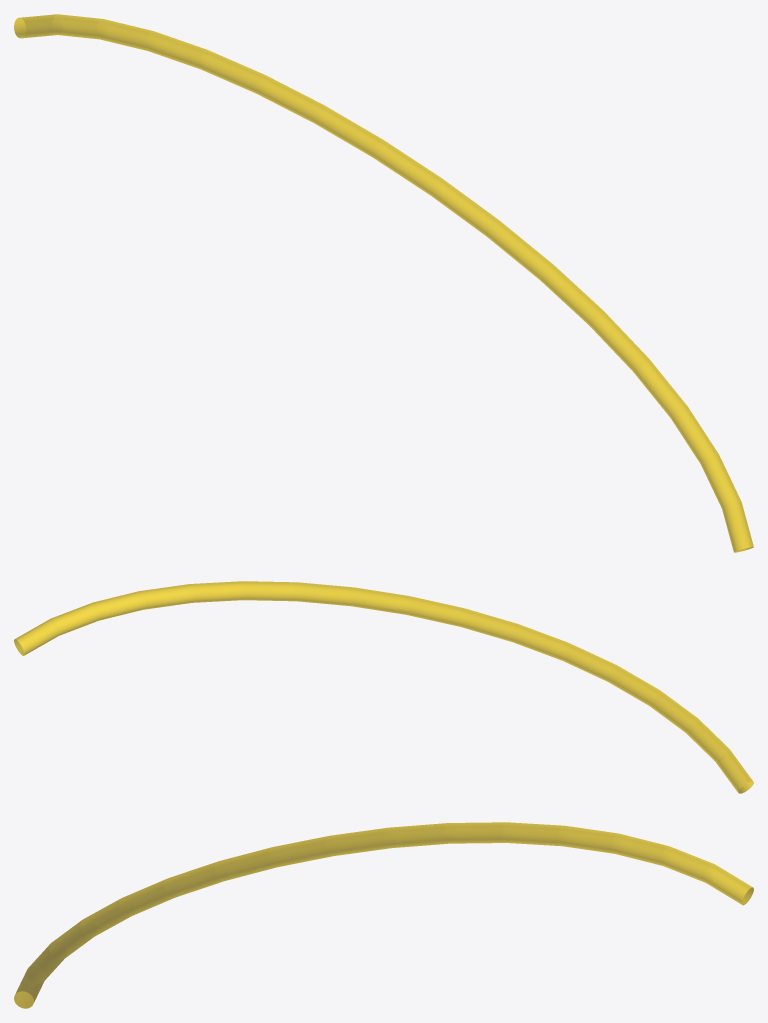
The model's file is Event_100608114_track_65.fbx.
The picture shows the model from 3 angles, top to bottom: view 1: azimuth 90°, elevation 25°; view 2: azimuth 150°, elevation 25°; view 3: azimuth 270°, elevation 25°; orthographic projection. The views are drawn at different scales.
Visible parts, largest first — view 1: Model; view 2: Model; view 3: Model.
Boxes of the visible parts, x1,y1,x2,y2 form: Model: (14, 14, 753, 552); Model: (14, 581, 753, 793); Model: (14, 822, 753, 1008).
Bounding box in the file's own units: 0.9861 × 0.7367 × 1.42.
